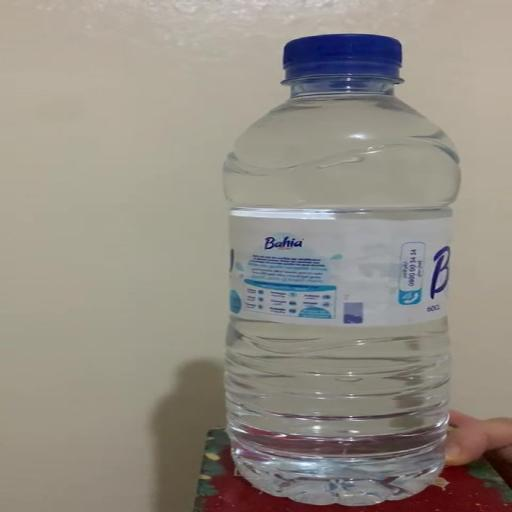bouteille conformite: (208, 20, 481, 500)
